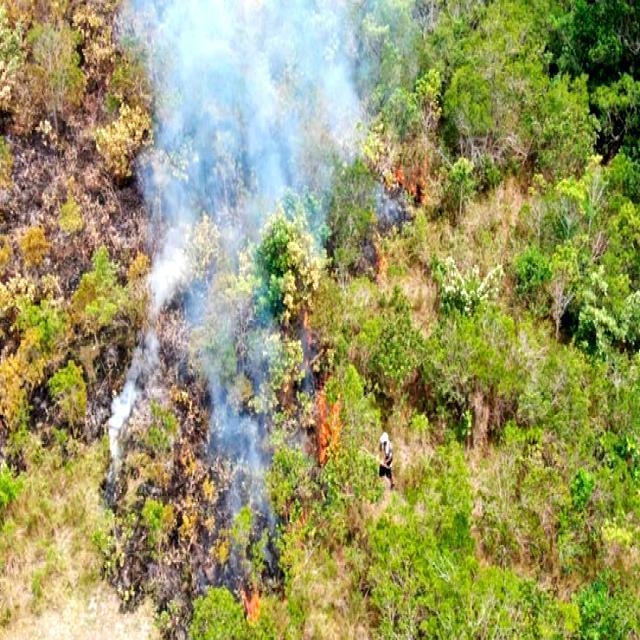Smoke: (101, 9, 378, 418)
